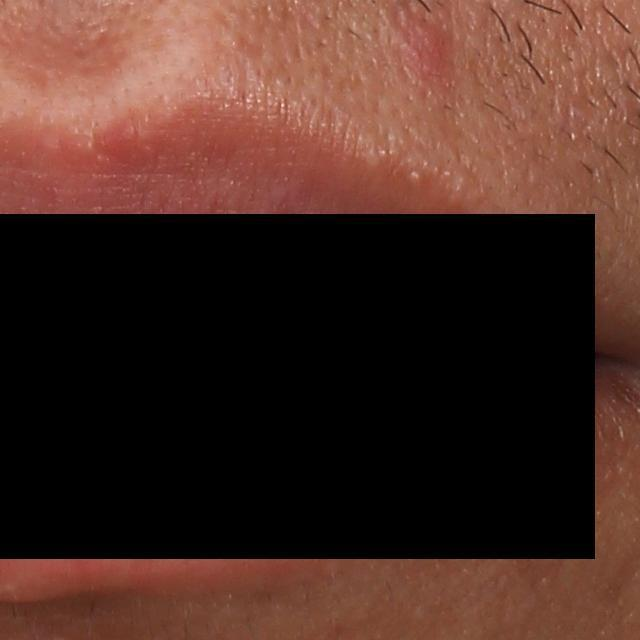comedo: (403, 165, 426, 185)
papule: (402, 24, 451, 76)
